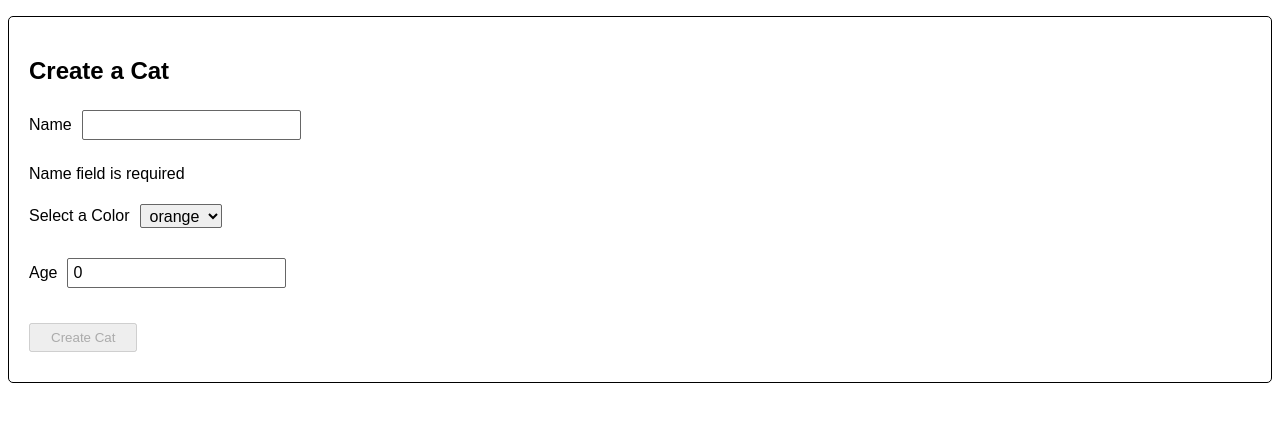
Test case: (14 points) CatForm › (1 point) should show an "Age must be between 0 and 30" error if age is less than 0
Step 1. Replace the text in the number field labelled "Age" with "-1" → (177,273), box [68,258,286,288]
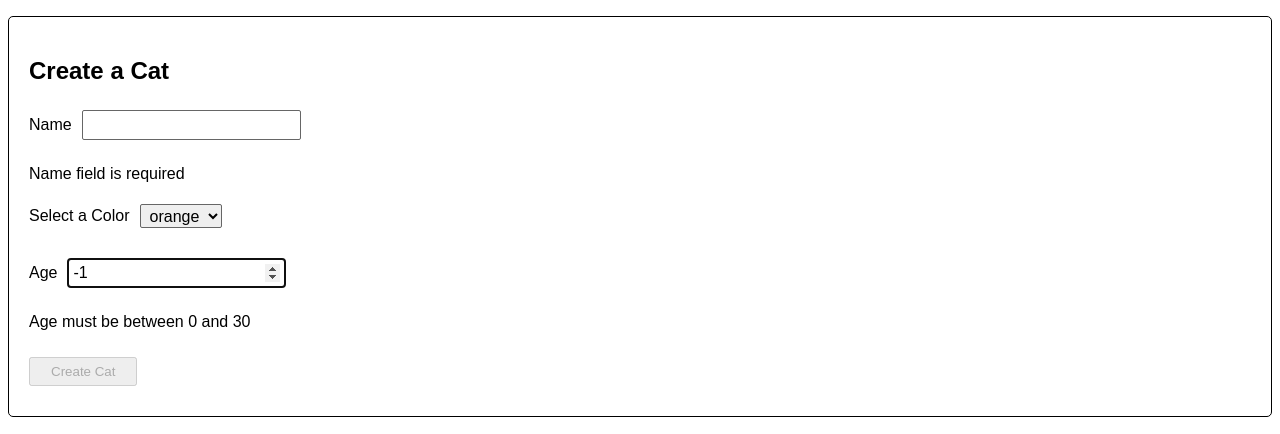
Check: the text "Age must be between 0 and 30" is shown, box [29,313,250,330]
